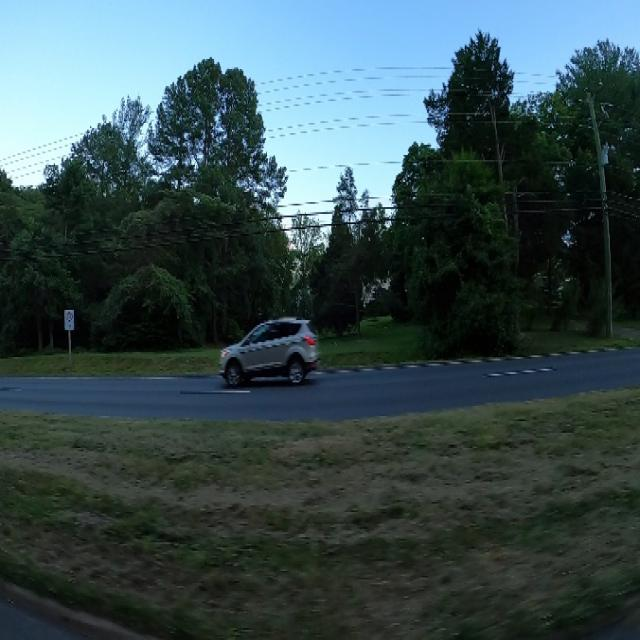car: (210, 306, 330, 401)
